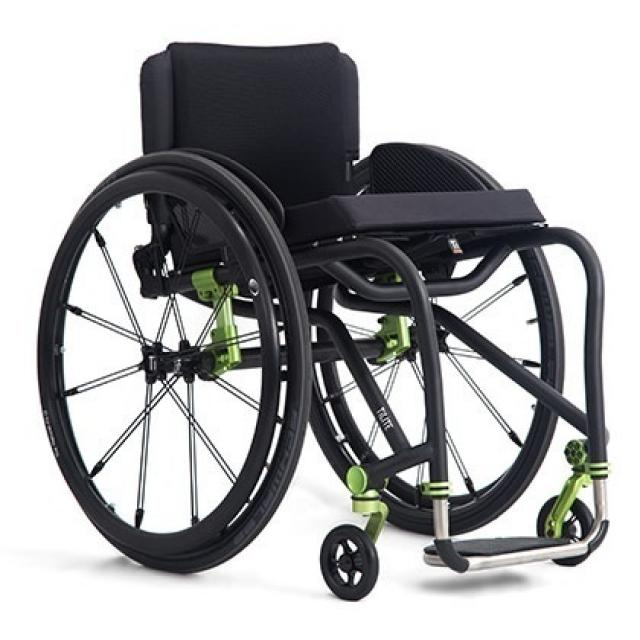wheelchair: (23, 26, 640, 619)
